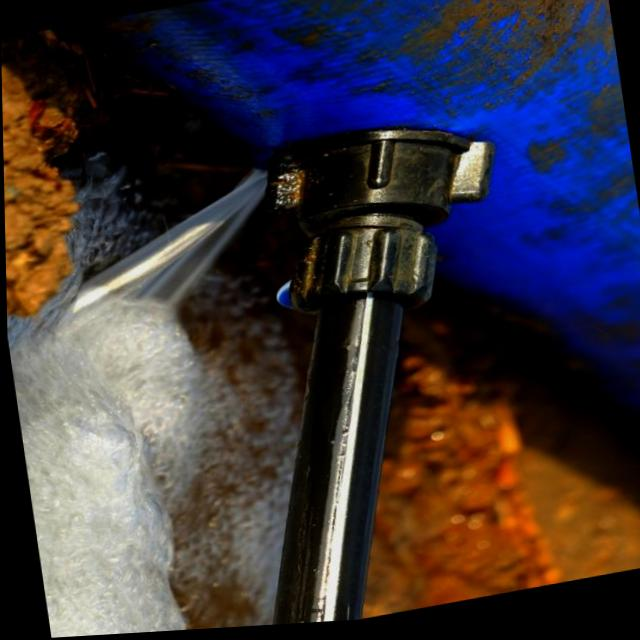leak: (71, 170, 265, 312)
